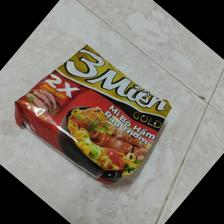3mien: (15, 44, 173, 185)
